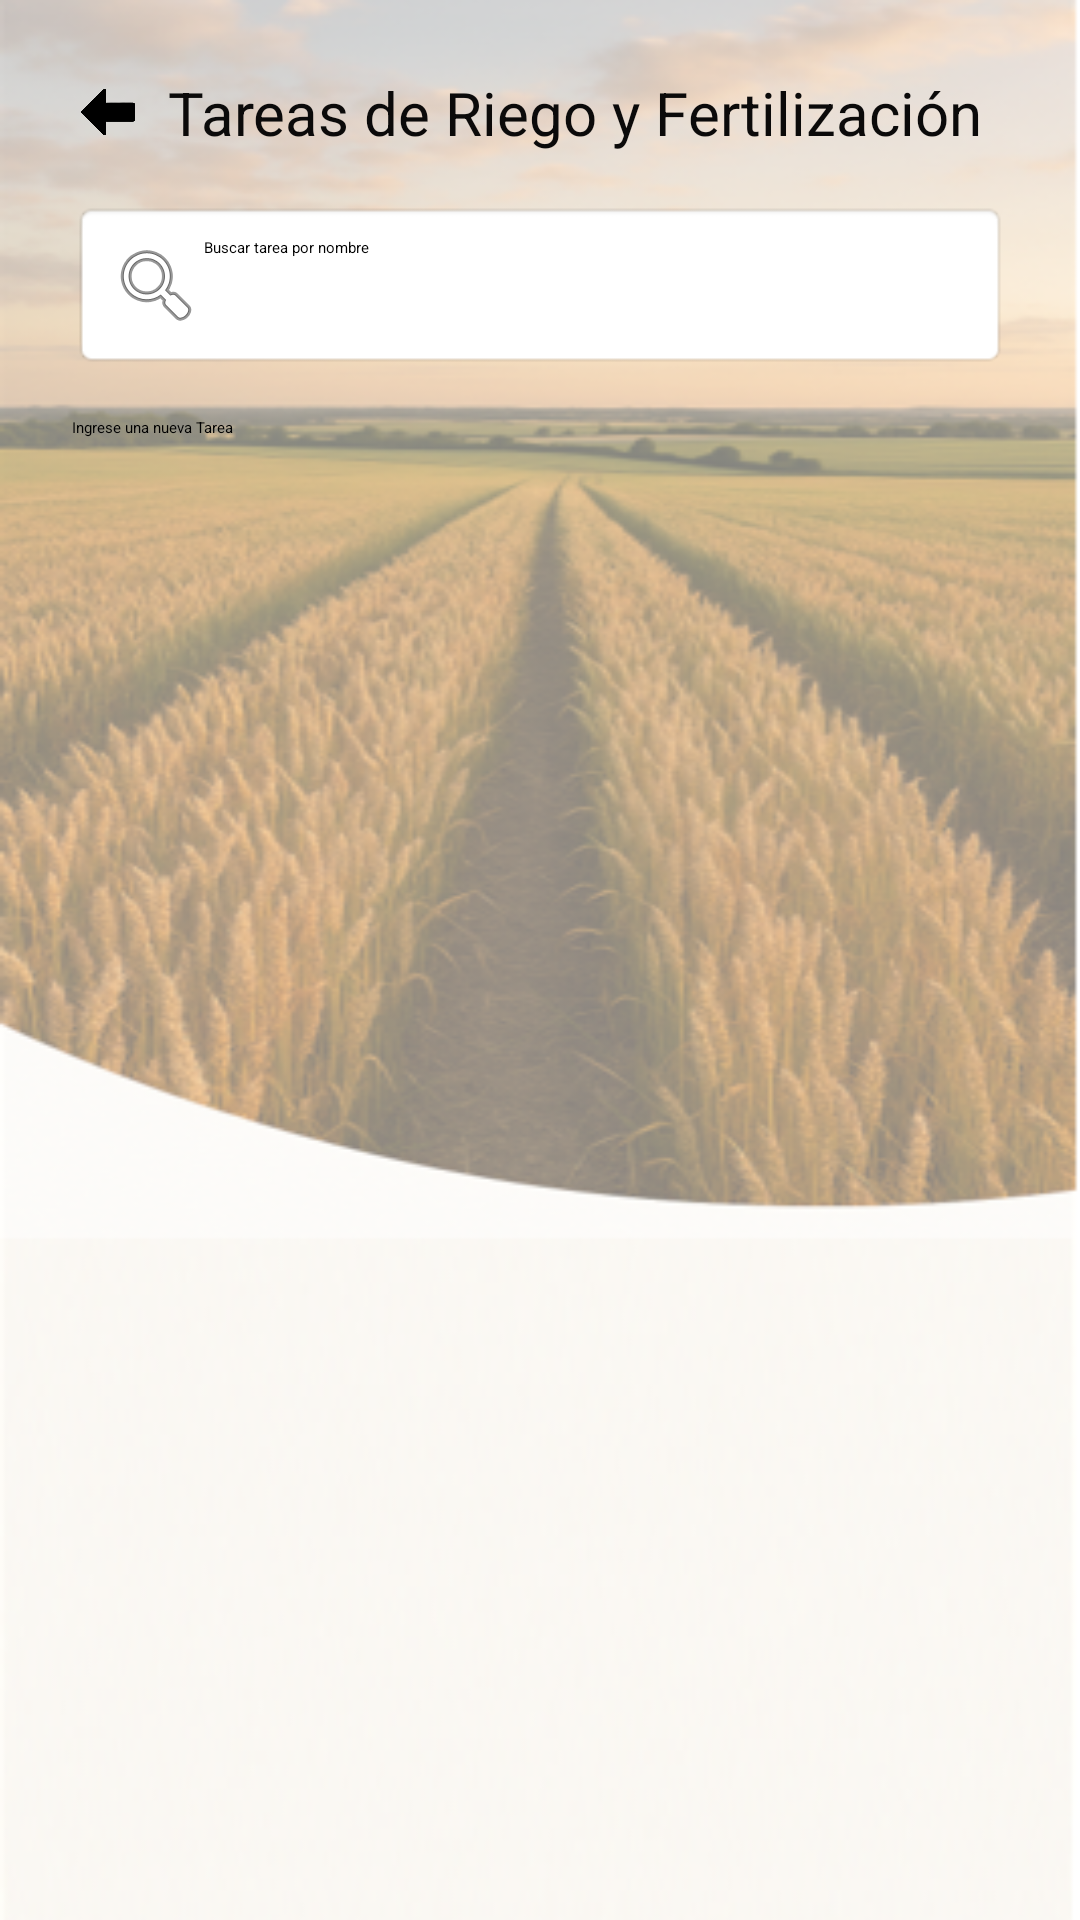

Point at icon controls on the screen. Image size 1080px x 1920px, points as (x,y).
flecha: (108,111)
